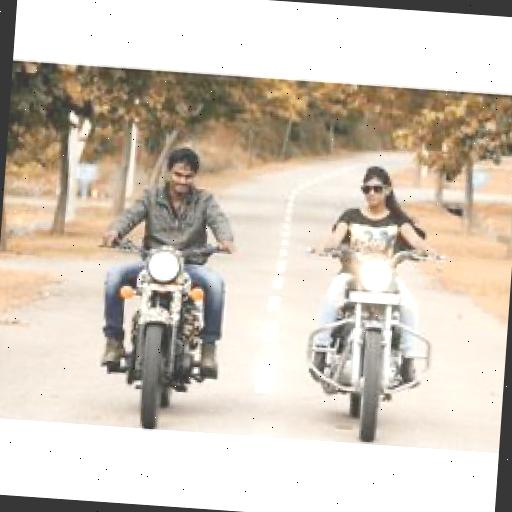no helmet: (77, 126, 256, 424), (286, 144, 456, 428)
